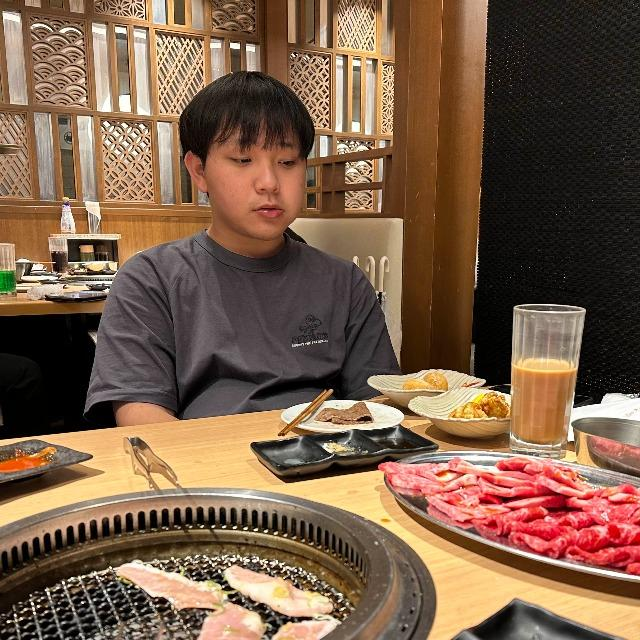NoHelmet: (175, 69, 319, 238)
NoVest: (104, 237, 392, 413)
